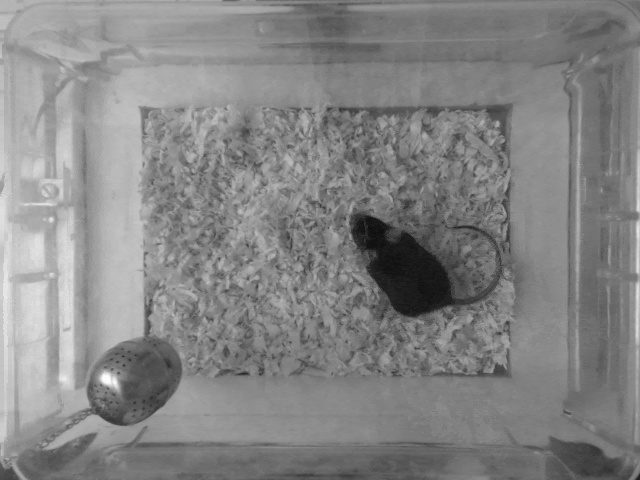mice: (340, 213, 503, 318)
